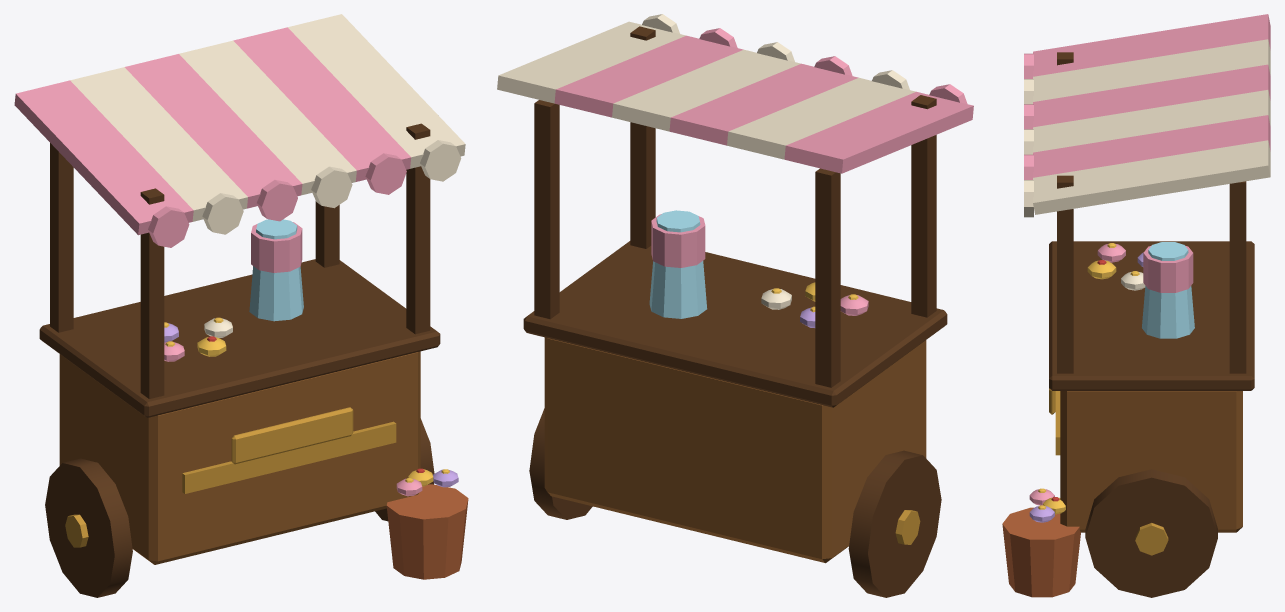
File: PR_Station_SezonBahar_T2.fbx
The picture shows the model from 3 angles, left to right: view 1: azimuth 30°, elevation 25°; view 2: azimuth 150°, elevation 25°; view 3: azimuth 270°, elevation 25°; orthographic projection. The views are drawn at different scales.
Parts seen in each view (by area): view 1: PR_Station_SezonBahar_T2; view 2: PR_Station_SezonBahar_T2; view 3: PR_Station_SezonBahar_T2.
Boxes of the visible parts, left/top/right/bottom form: PR_Station_SezonBahar_T2: left=14, top=14, right=468, bottom=597; PR_Station_SezonBahar_T2: left=497, top=14, right=973, bottom=597; PR_Station_SezonBahar_T2: left=1002, top=14, right=1270, bottom=597.
Size of the model in its own units: 1.1 by 1.44 by 0.808.
Materials: 1 (1 with a texture image).
